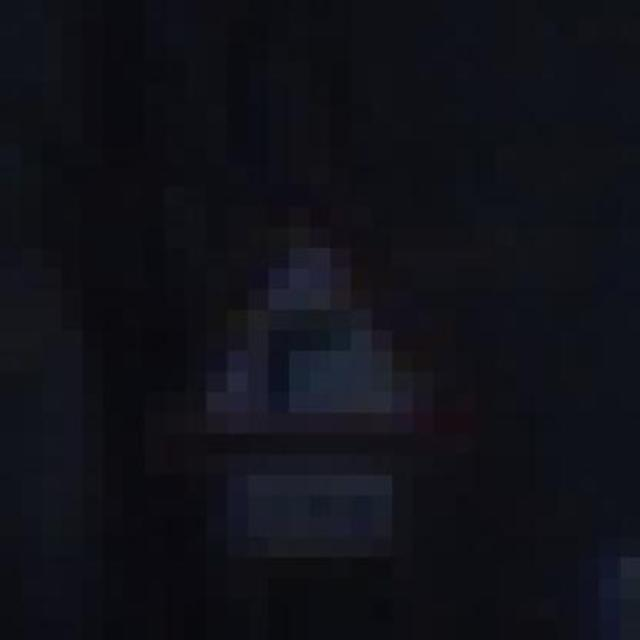Dangerous Rright Curve Ahead: (164, 207, 433, 475)
